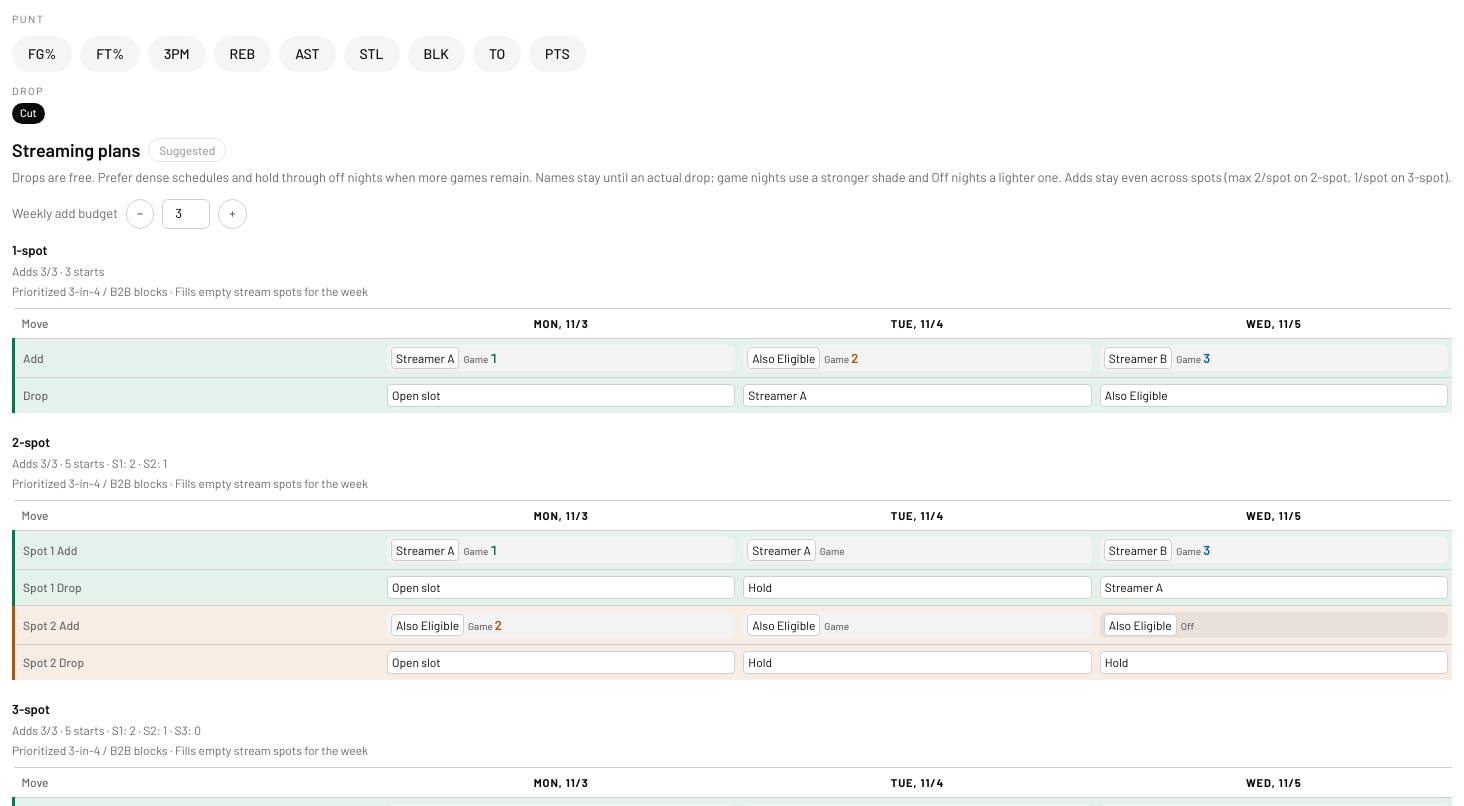
StreamingPlansPanel › builds lazy add options only after the select opens
Step 1. Click the dropdown named "Stream add" → click(425, 358), box [391,347,460,369]
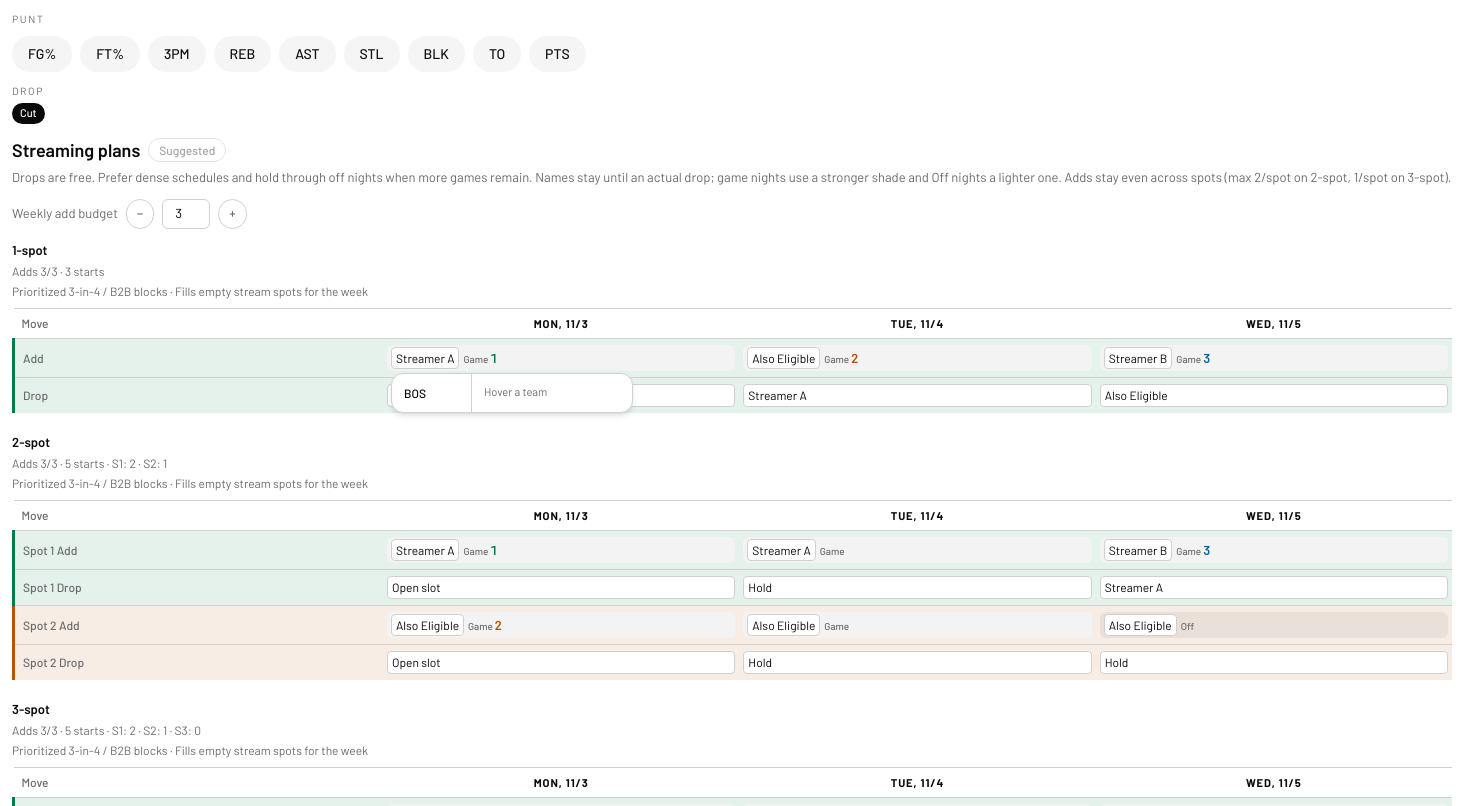
Check: the button with aria-label "Team BOS" is shown
Step 2. Hover over the button with aria-label "Team BOS" → (432, 393), box [398,380,465,406]
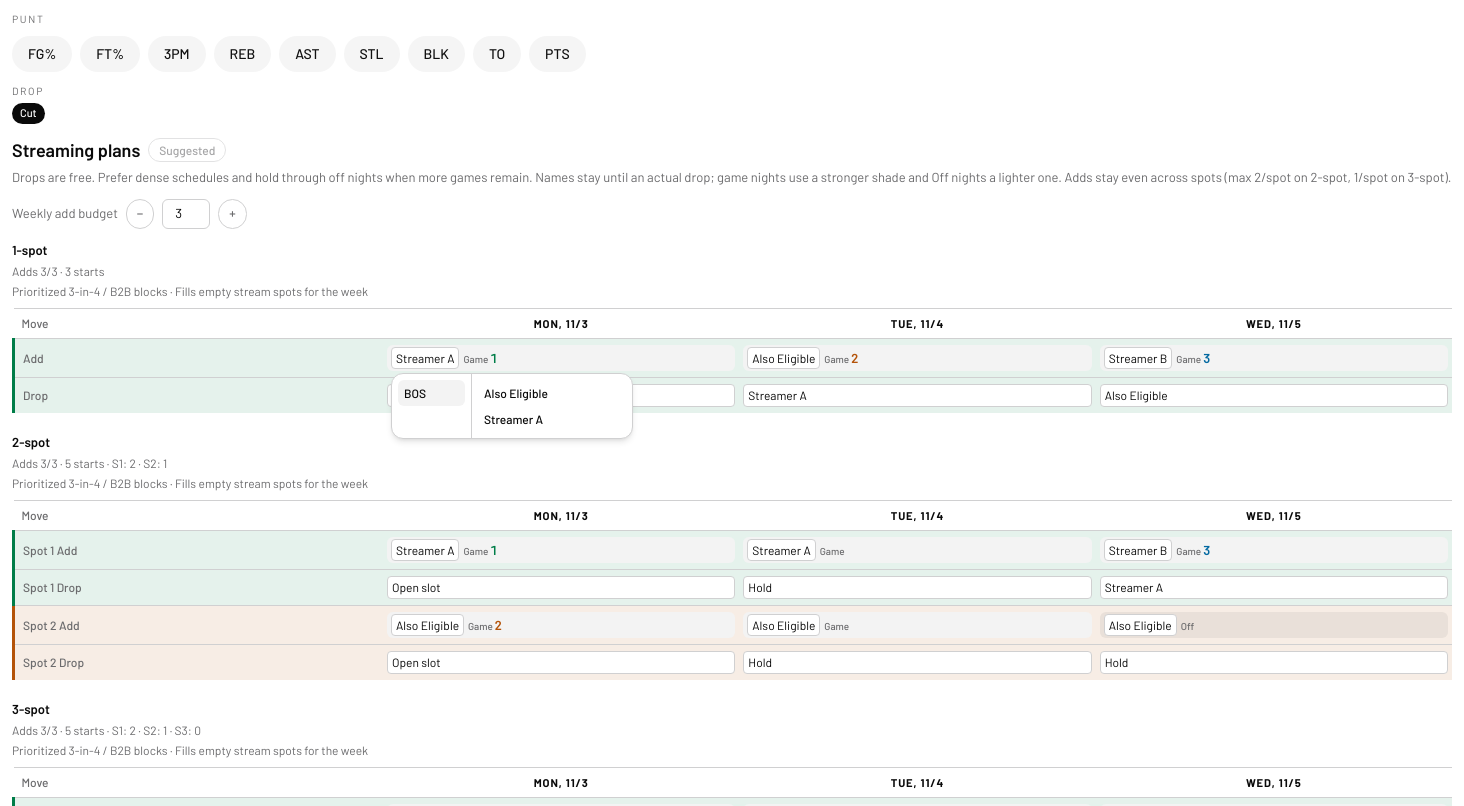
Check: the option with aria-label "Add Streamer A" is shown, box [478,406,626,432]
Check: the option with aria-label "Add Also Eligible" is shown, box [478,380,626,406]
